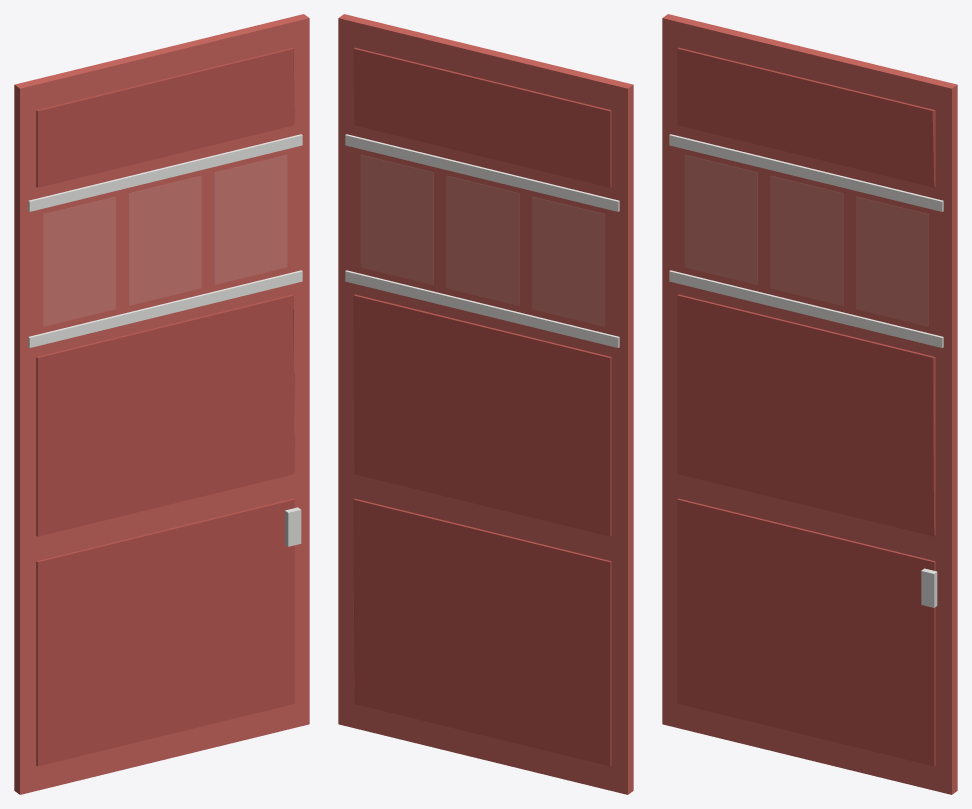
The model's file is bay_door_leaf.glb.
The picture shows the model from 3 angles, left to right: view 1: azimuth 30°, elevation 25°; view 2: azimuth 150°, elevation 25°; view 3: azimuth 330°, elevation 25°; orthographic projection.
Parts seen in each view (by area): view 1: bay_door_leaf_bay_panel, bay_door_leaf_bay_red, bay_door_leaf_glass, bay_door_leaf_trim, bay_door_leaf_metal; view 2: bay_door_leaf_bay_panel, bay_door_leaf_bay_red, bay_door_leaf_glass, bay_door_leaf_trim; view 3: bay_door_leaf_bay_panel, bay_door_leaf_bay_red, bay_door_leaf_glass, bay_door_leaf_trim, bay_door_leaf_metal.
Boxes of the visible parts, left/top/right/bottom form: bay_door_leaf_bay_panel: left=36, top=47, right=294, bottom=766; bay_door_leaf_bay_red: left=14, top=14, right=309, bottom=794; bay_door_leaf_glass: left=43, top=155, right=286, bottom=325; bay_door_leaf_trim: left=28, top=134, right=302, bottom=347; bay_door_leaf_metal: left=285, top=507, right=301, bottom=546; bay_door_leaf_bay_panel: left=353, top=47, right=611, bottom=766; bay_door_leaf_bay_red: left=338, top=14, right=633, bottom=794; bay_door_leaf_glass: left=361, top=155, right=604, bottom=325; bay_door_leaf_trim: left=345, top=134, right=619, bottom=347; bay_door_leaf_bay_panel: left=677, top=47, right=935, bottom=766; bay_door_leaf_bay_red: left=662, top=14, right=957, bottom=794; bay_door_leaf_glass: left=685, top=155, right=928, bottom=325; bay_door_leaf_trim: left=669, top=134, right=943, bottom=347; bay_door_leaf_metal: left=921, top=568, right=937, bottom=607.
Bounding box in the file's own units: 1.78 × 4.15 × 0.125.
